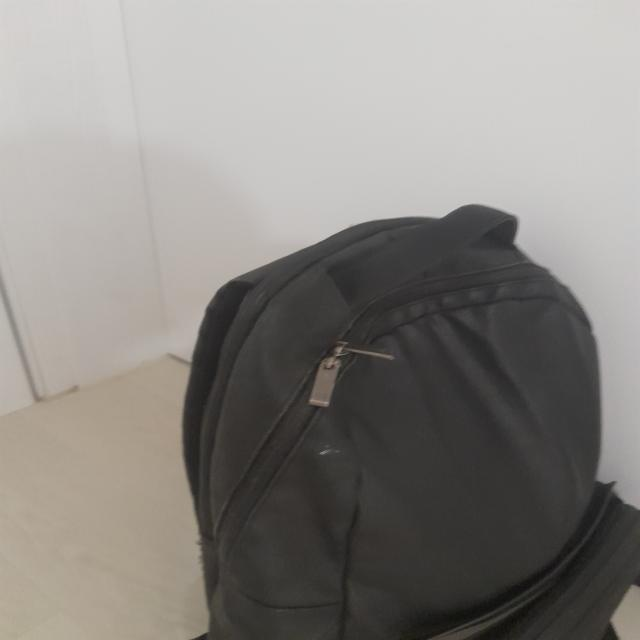backpack: (179, 205, 640, 640)
